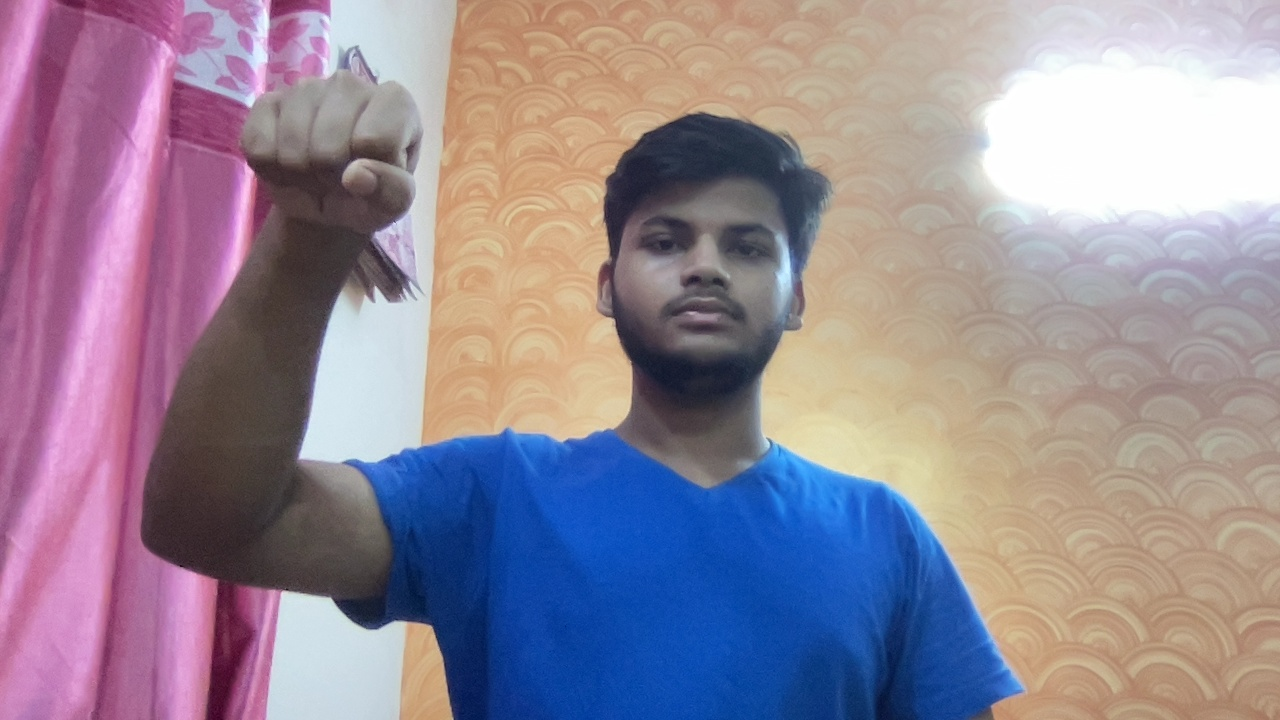yes: (226, 53, 458, 255)
